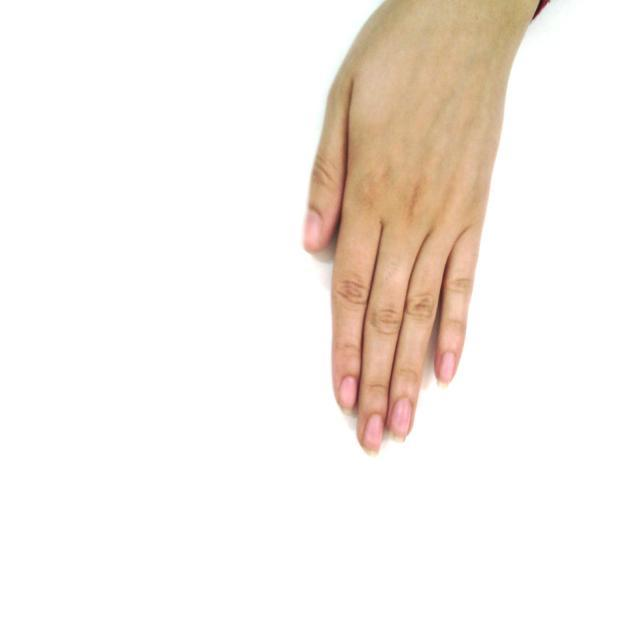Fingernail: (391, 398, 412, 442), (364, 414, 383, 456), (340, 378, 356, 412), (305, 213, 321, 247), (438, 353, 454, 384)
